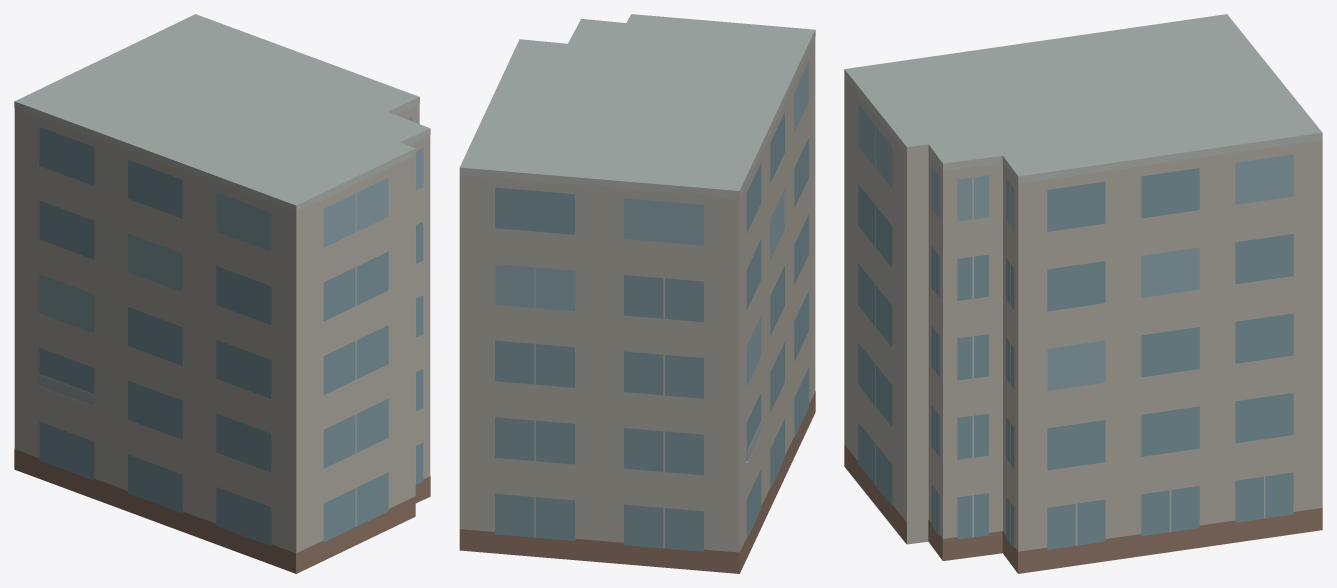
Rendered from survey-upis-33029795.glb.
3 renders of one model, left to right at view 1: azimuth 30°, elevation 25°; view 2: azimuth 150°, elevation 25°; view 3: azimuth 270°, elevation 25°, orthographic. The views are drawn at different scales.
Visible parts, largest first — view 1: survey-upis-33029795.tmp; view 2: survey-upis-33029795.tmp; view 3: survey-upis-33029795.tmp.
Boxes of the visible parts, x1,y1,x2,y2 form: survey-upis-33029795.tmp: (14,14,430,573); survey-upis-33029795.tmp: (459,14,815,573); survey-upis-33029795.tmp: (844,14,1322,573).
Size of the model in its own units: 11.67 by 13.3 by 14.51.
